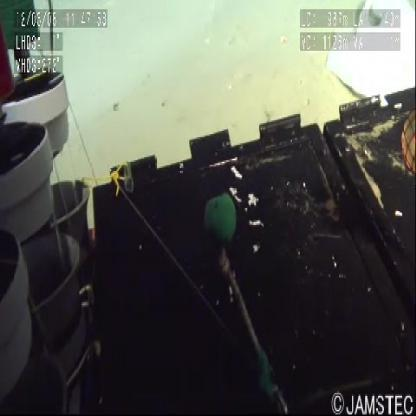Rov: (0, 3, 416, 415)
Rác: (322, 3, 416, 116)
